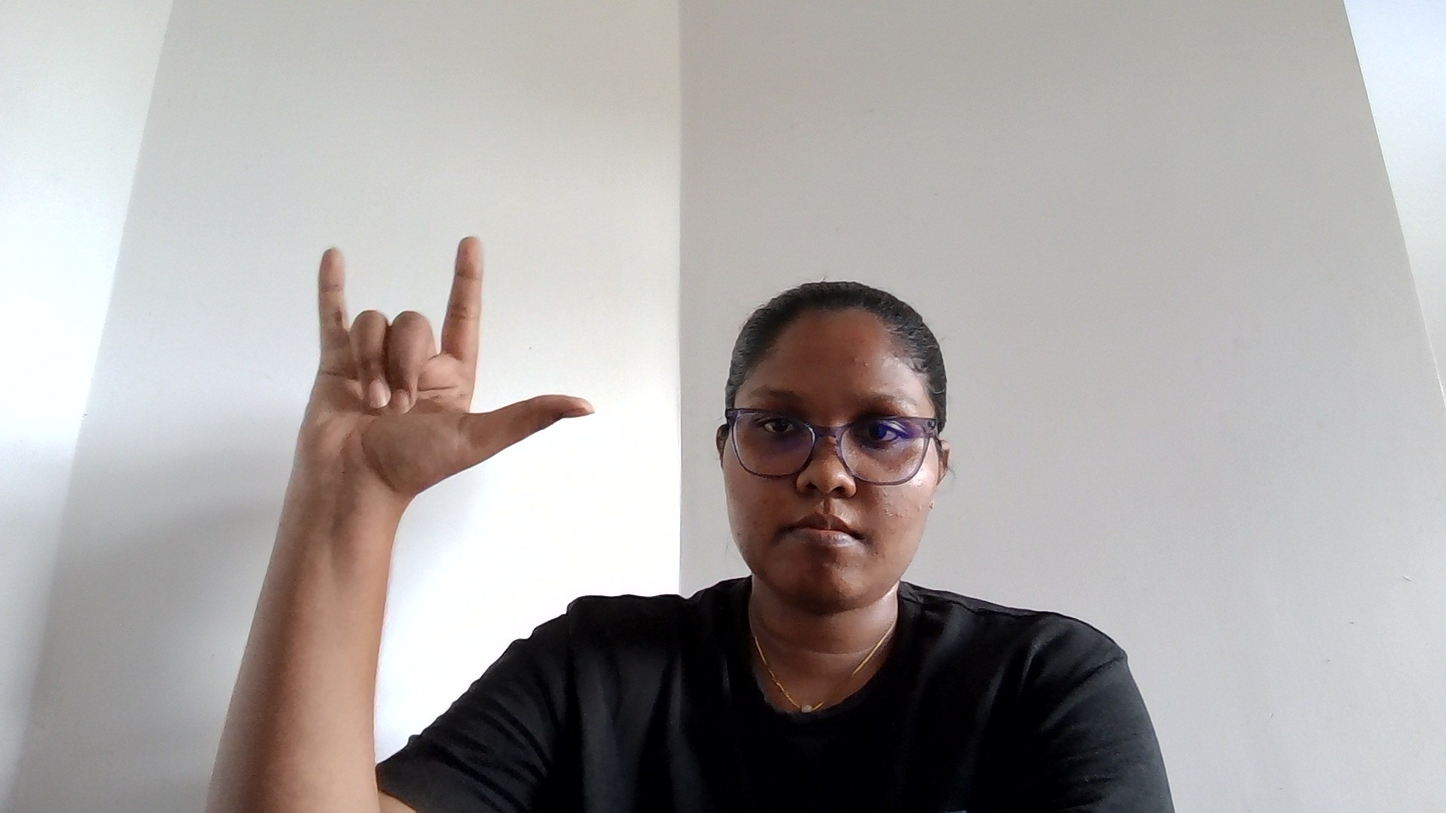I Love You: (224, 181, 616, 670)
